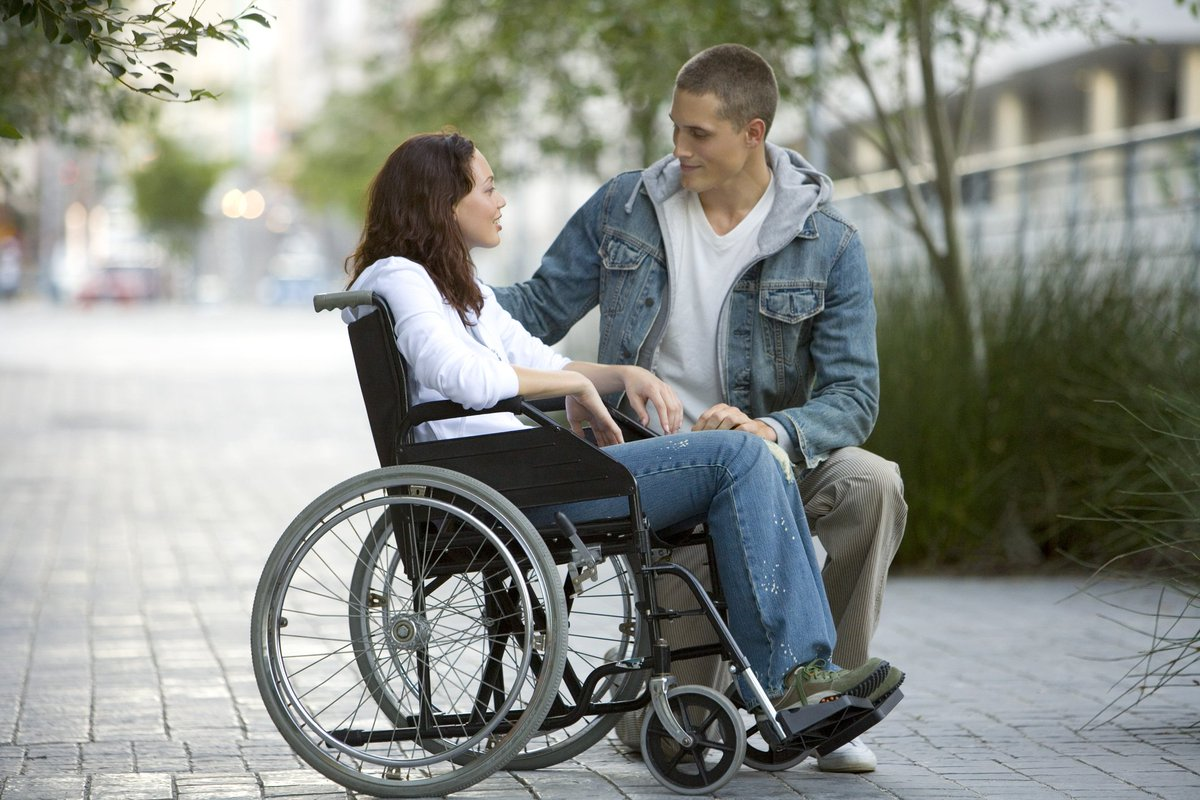person: (577, 52, 890, 419), (340, 115, 615, 517)
wheelchair: (250, 454, 648, 765)
